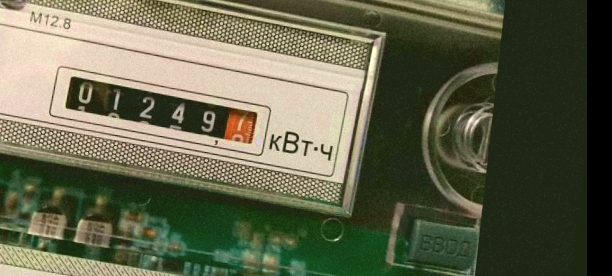0: (75, 77, 95, 105)
1: (107, 84, 124, 111)
2: (136, 93, 156, 121)
4: (169, 98, 187, 124)
7: (232, 106, 250, 133)
9: (197, 106, 217, 133)
screen: (45, 62, 275, 160)
